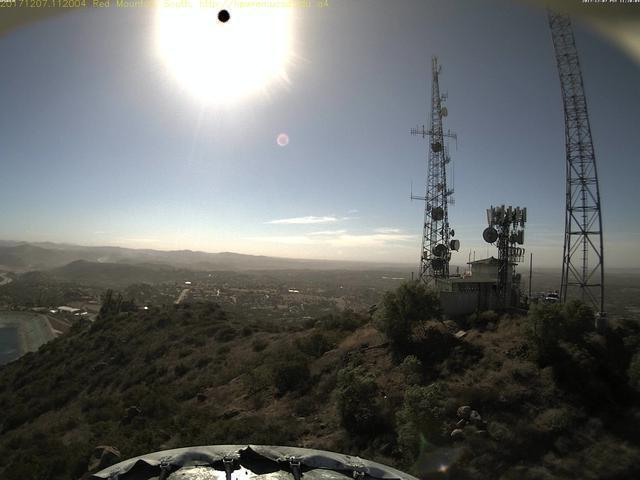Smoke: (94, 244, 135, 265)
